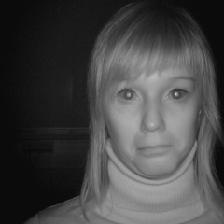sad: (81, 1, 224, 181)
